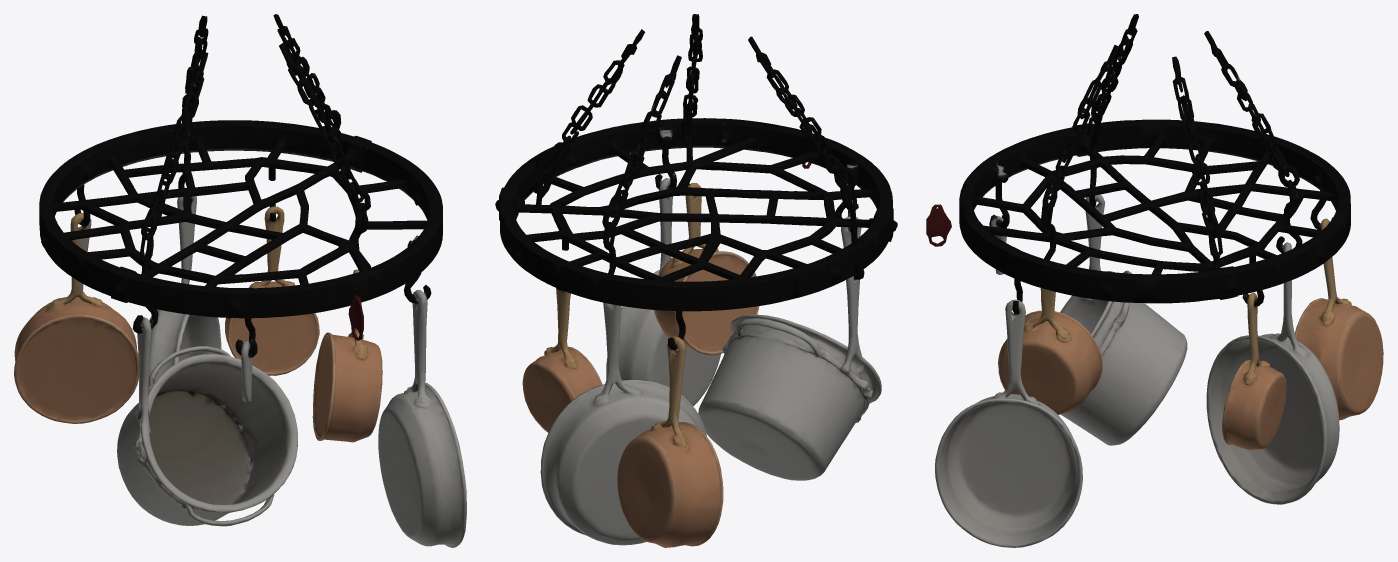
File: pot-rack.glb
3 views of the same model, side by side, from view 1: azimuth 30°, elevation 25°; view 2: azimuth 150°, elevation 25°; view 3: azimuth 270°, elevation 25° (orthographic). The views are drawn at different scales.
Parts seen in each view (by area): view 1: tripo_node_d49c4a55-f5d9-478e-ac52-7c6cbbd3fdc7; view 2: tripo_node_d49c4a55-f5d9-478e-ac52-7c6cbbd3fdc7; view 3: tripo_node_d49c4a55-f5d9-478e-ac52-7c6cbbd3fdc7.
Part boxes in pixels (x1,y1,x2,y2): tripo_node_d49c4a55-f5d9-478e-ac52-7c6cbbd3fdc7: (14,14,466,547); tripo_node_d49c4a55-f5d9-478e-ac52-7c6cbbd3fdc7: (495,14,897,547); tripo_node_d49c4a55-f5d9-478e-ac52-7c6cbbd3fdc7: (926,14,1383,547).
Bounding box in the file's own units: 0.9034 × 1.2 × 1.09.
Materials: 1 (1 with a texture image).
